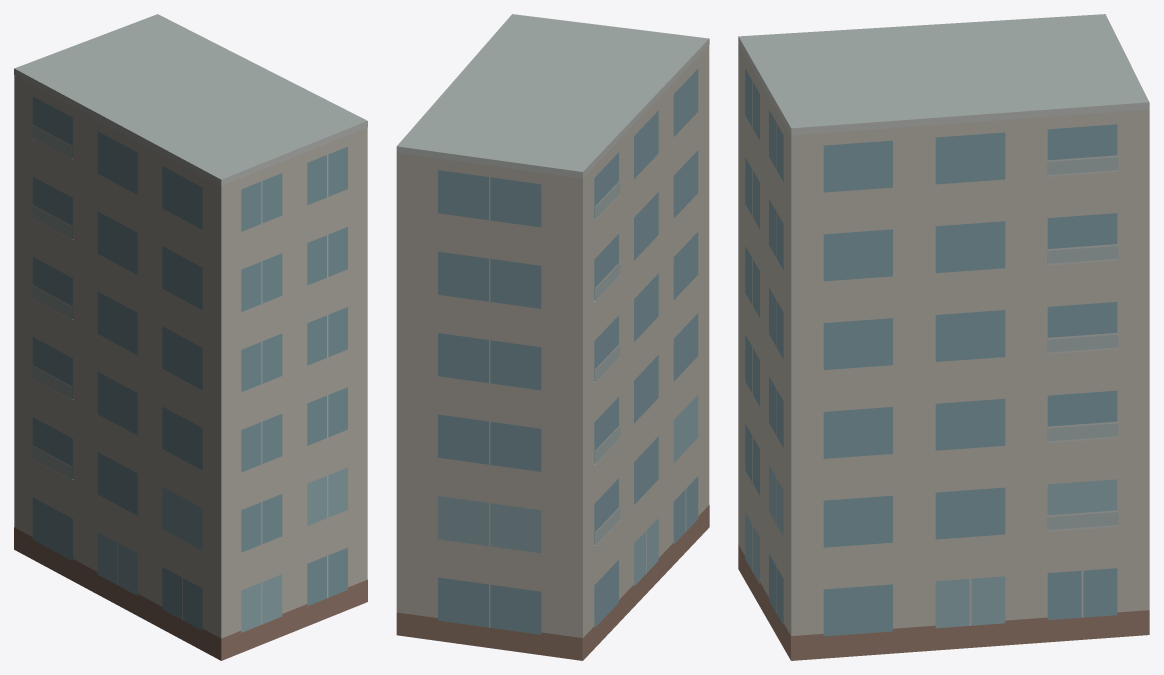
Rendered from survey-upis-32746212.glb.
The picture shows the model from 3 angles, left to right: view 1: azimuth 30°, elevation 25°; view 2: azimuth 150°, elevation 25°; view 3: azimuth 270°, elevation 25°; orthographic projection. The views are drawn at different scales.
Parts seen in each view (by area): view 1: survey-upis-32746212.tmp; view 2: survey-upis-32746212.tmp; view 3: survey-upis-32746212.tmp.
Part boxes in pixels (<box>): survey-upis-32746212.tmp: <box>14,14,367,660</box>; survey-upis-32746212.tmp: <box>396,14,709,660</box>; survey-upis-32746212.tmp: <box>738,14,1149,660</box>.
Bounding box in the file's own units: 8.43 × 18.3 × 12.81.
